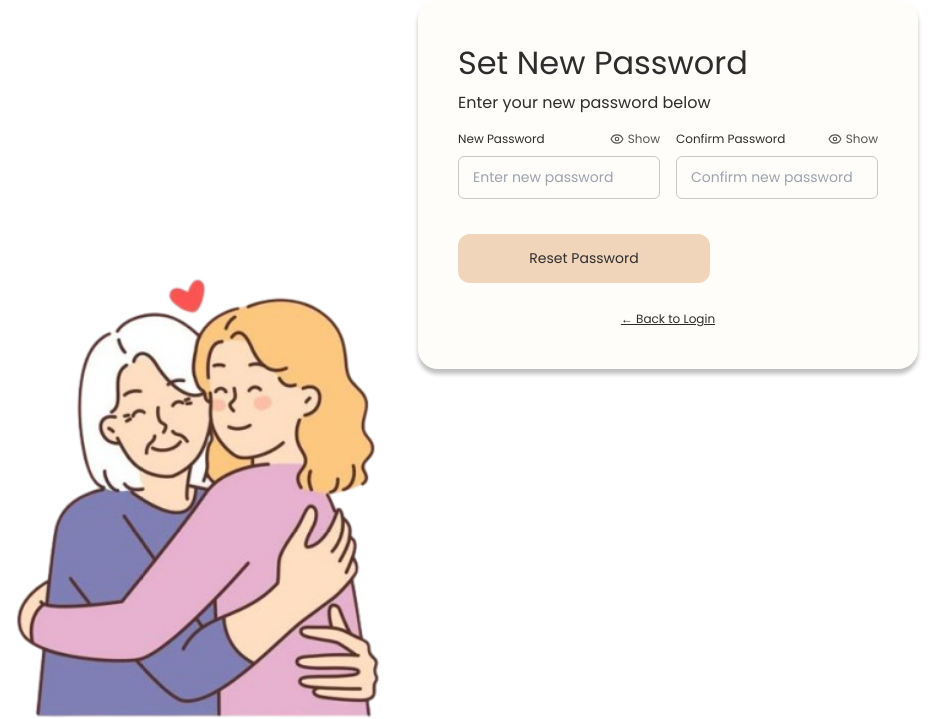
Test case: ForgotPasswordNewPassword component › submits form with valid passwords and navigates to login on success
Type "NewPassword123!" into the password field with placeholder "Enter new password".
click(559, 178); type("NewPassword123!")  # box [458,156,660,199]
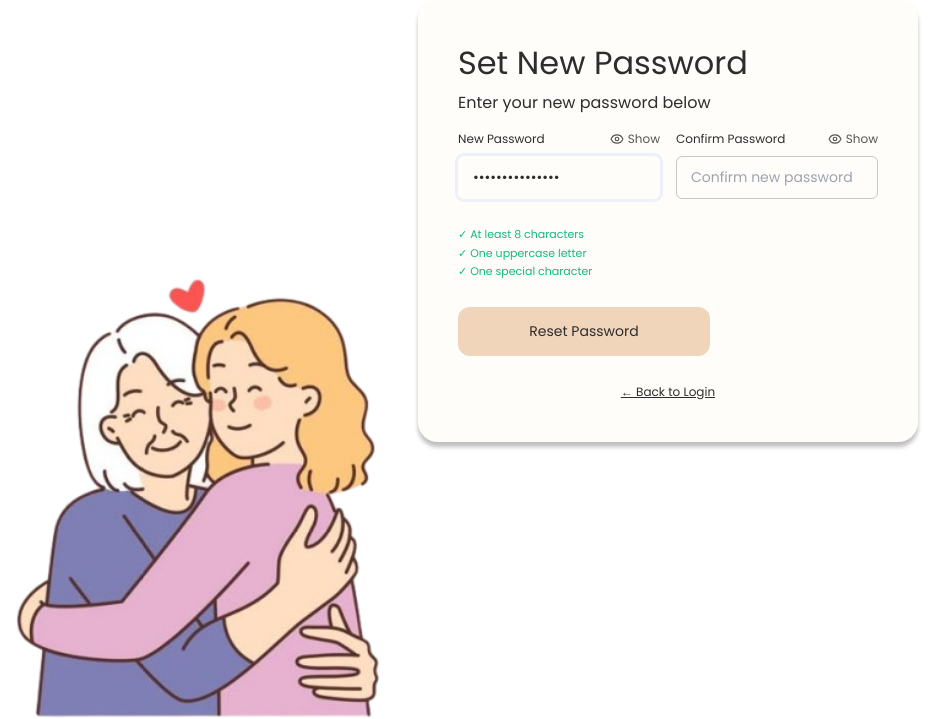
Type "NewPassword123!" into the password field with placeholder "Confirm new password".
click(777, 178); type("NewPassword123!")  # box [676,156,878,199]
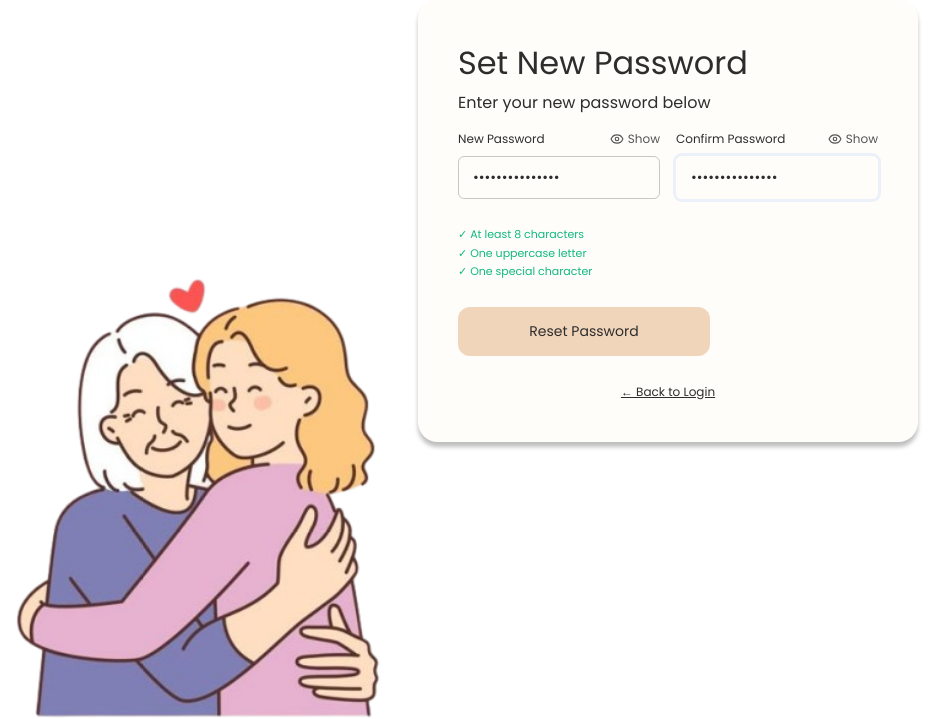
Click the button "Reset Password".
click(584, 331)  # box [458,306,710,356]
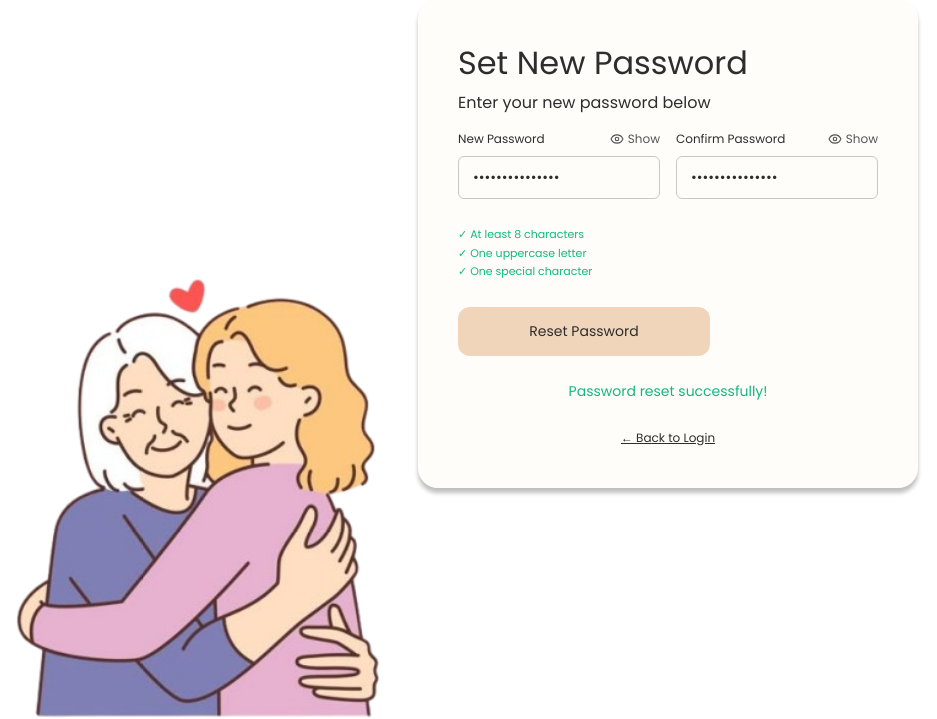
expect the text "Password reset successfully!" is shown: met, box [569,380,767,400]
